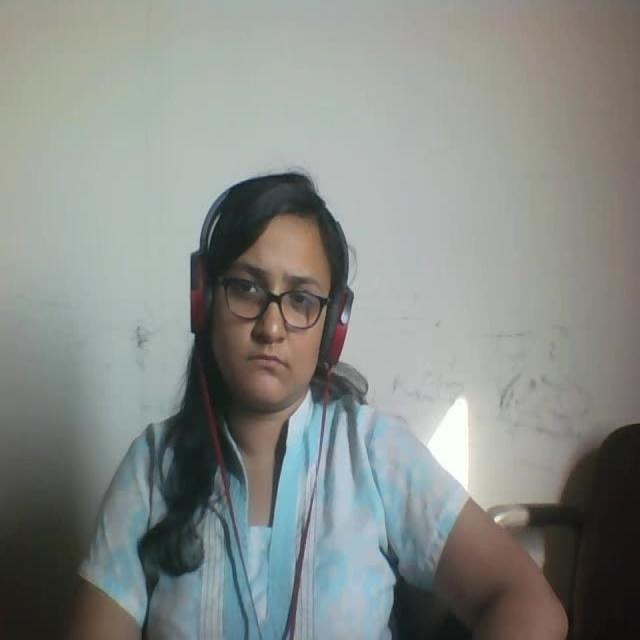Engaged: (169, 149, 389, 416)
